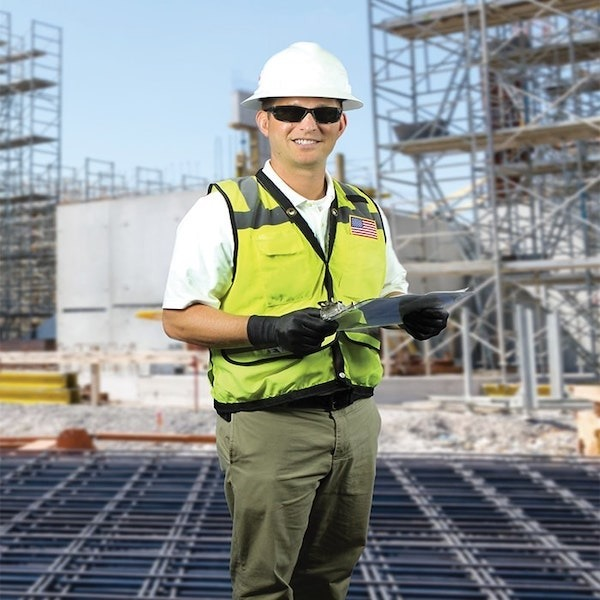helmet: (244, 48, 365, 110)
vest: (211, 176, 397, 397)
